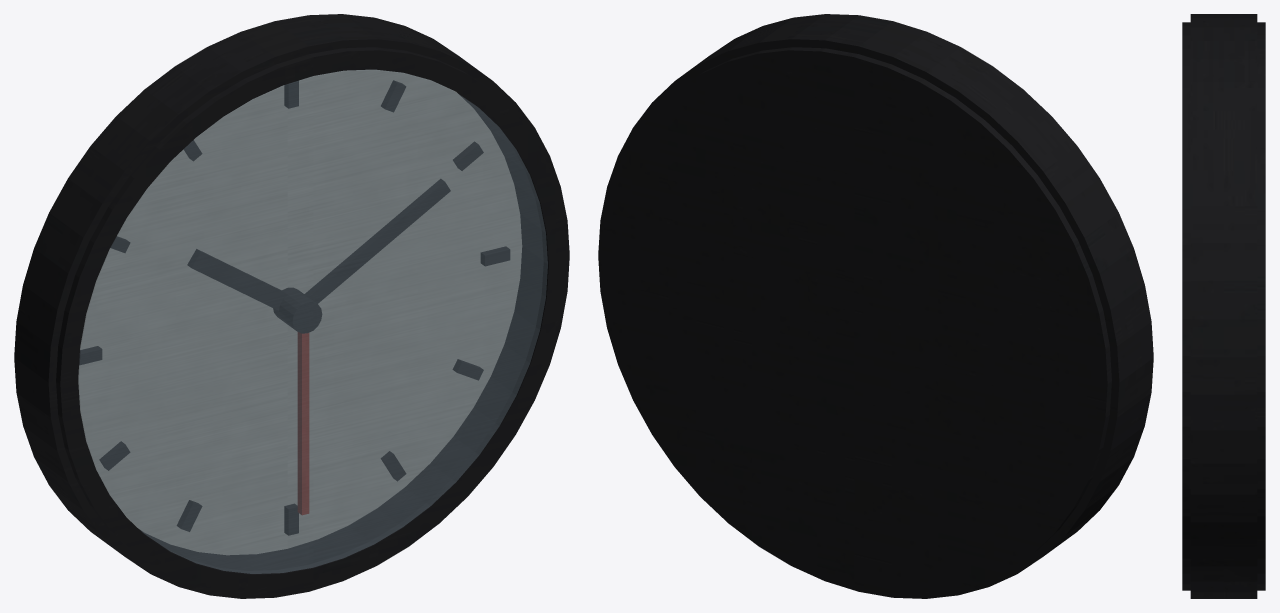
File: wall_clock.glb
3 renders of one model, left to right at view 1: azimuth 30°, elevation 25°; view 2: azimuth 150°, elevation 25°; view 3: azimuth 270°, elevation 25°, orthographic. The views are drawn at different scales.
Visible parts, largest first — view 1: wall_clock-col; view 2: wall_clock-col; view 3: wall_clock-col.
Boxes of the visible parts, x1=… form: wall_clock-col: x1=14, y1=14, x2=569, y2=598; wall_clock-col: x1=598, y1=14, x2=1153, y2=598; wall_clock-col: x1=1182, y1=14, x2=1265, y2=598.
Size of the model in its own units: 0.35 by 0.35 by 0.05.
4 materials, 4 textured.
